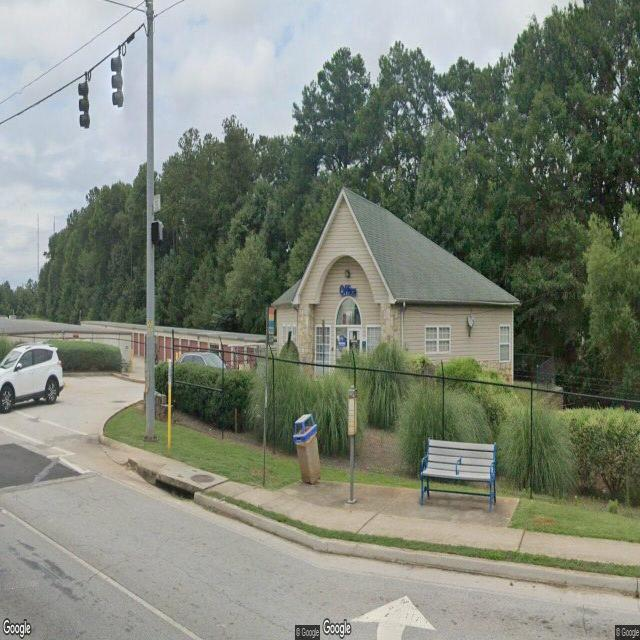seating: (418, 436, 497, 514)
trash_can: (292, 413, 322, 485)
